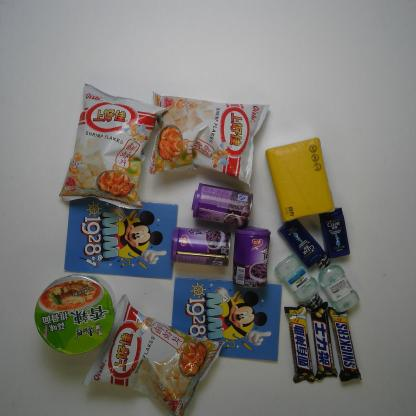Canned Food: (188, 182, 256, 228), (168, 221, 232, 268), (230, 224, 274, 288)
Chocolate: (327, 303, 363, 383), (282, 302, 316, 384), (308, 300, 340, 382)
Instant Noodles: (32, 271, 116, 357)
Personal Hygiene: (274, 253, 325, 310), (315, 252, 361, 314), (277, 216, 327, 271), (317, 206, 350, 259)
Puffed Food: (83, 293, 224, 416), (56, 83, 168, 210), (146, 90, 270, 188)
Stationery: (63, 191, 180, 281), (169, 276, 282, 362)
Tissue: (264, 137, 336, 223)
